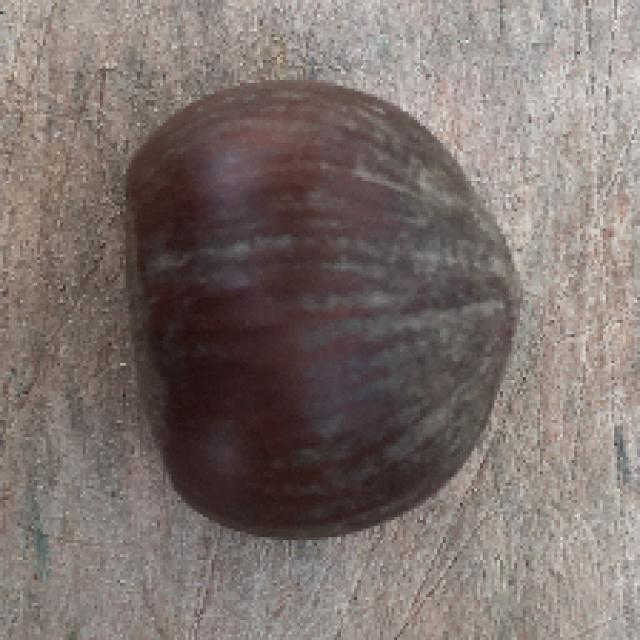qualityHazelnut: (110, 77, 531, 545)
